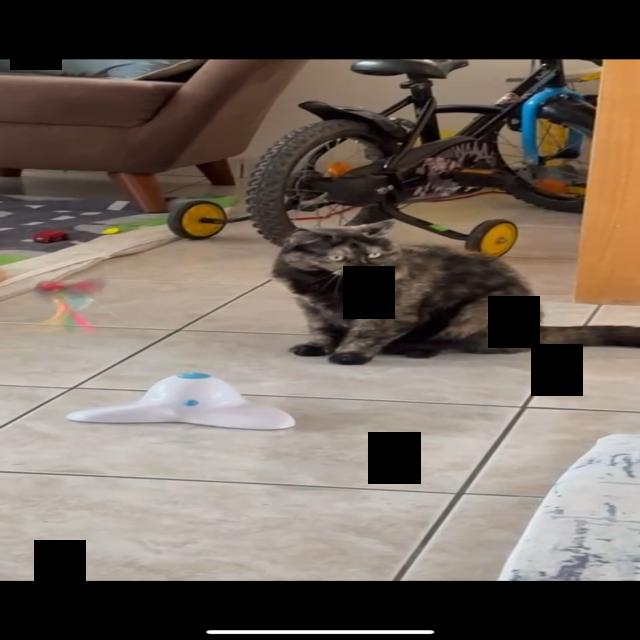authorized: (270, 219, 639, 365)
